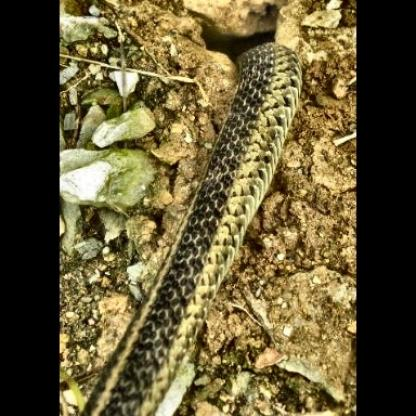Snake: (79, 28, 313, 416)
